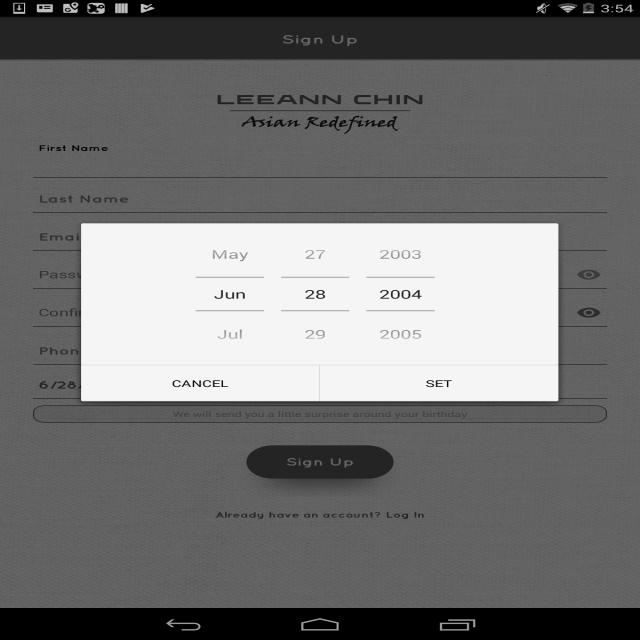Button: (238, 439, 400, 484)
TextView: (202, 89, 448, 133), (200, 245, 487, 271), (220, 323, 437, 347), (208, 506, 438, 523), (212, 285, 448, 300), (29, 192, 150, 208), (162, 372, 252, 392), (25, 138, 134, 154), (280, 33, 360, 50), (413, 372, 474, 394)
